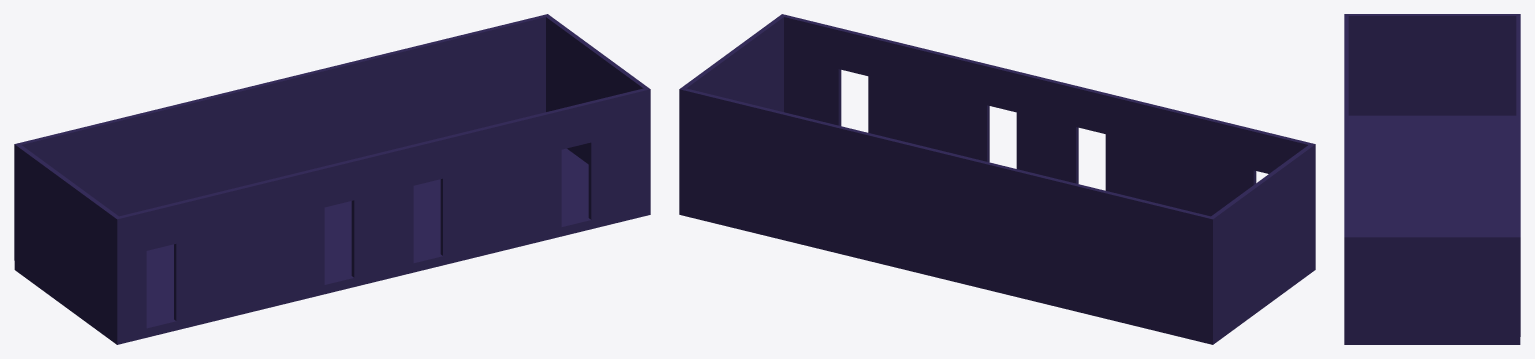
The model's file is libraryExport.FBX.
3 renders of one model, left to right at view 1: azimuth 30°, elevation 25°; view 2: azimuth 150°, elevation 25°; view 3: azimuth 270°, elevation 25°, orthographic. The views are drawn at different scales.
Visible parts, largest first — view 1: WallF, WallB, Floor, WallL, WallR; view 2: WallB, WallF, WallL, Floor, WallR; view 3: Floor, WallL, WallR, WallF, WallB.
Part boxes in pixels (x1,y1,x2,y2): WallF: (114, 87, 650, 335); WallB: (14, 14, 548, 261); Floor: (14, 148, 650, 344); WallL: (16, 143, 118, 333); WallR: (543, 14, 649, 164); WallB: (679, 88, 1215, 335); WallF: (780, 14, 1315, 260); WallL: (1208, 143, 1314, 335); Floor: (679, 205, 1315, 344); WallR: (679, 14, 785, 206); Floor: (1344, 115, 1520, 344); WallL: (1345, 14, 1520, 115); WallR: (1348, 235, 1518, 336); WallF: (1344, 14, 1348, 336); WallB: (1516, 14, 1520, 336).
Size of the model in its own units: 472 by 106 by 158.
